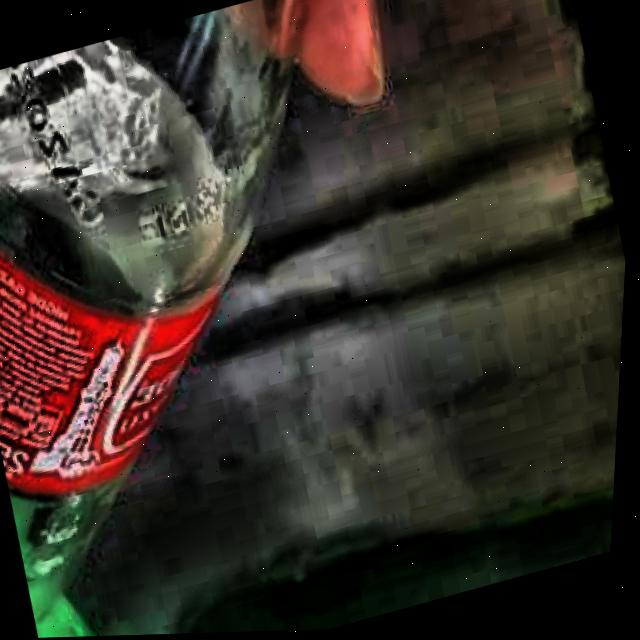glass: (0, 7, 287, 621)
